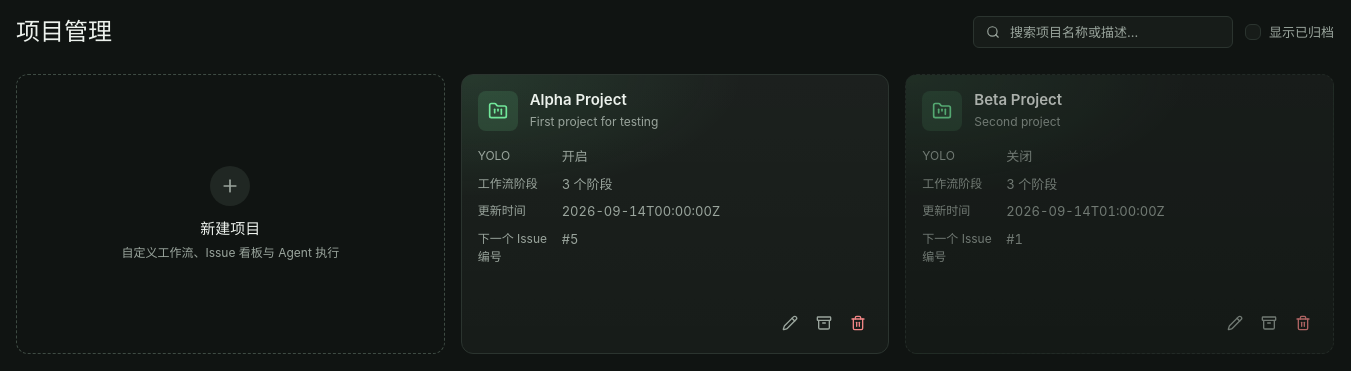
Test: ProjectsPage › renders project list and filters by search query
This screenshot has width=1351, height=371.
Check: the heading "Alpha Project" is shown, box top-left (530, 90), bottom-right (627, 109)
Check: the heading "Beta Project" is shown, box top-left (974, 90), bottom-right (1062, 109)
In the field labelled "搜索项目": (1114, 32) top-left (1008, 17), bottom-right (1220, 47), type "Alpha"
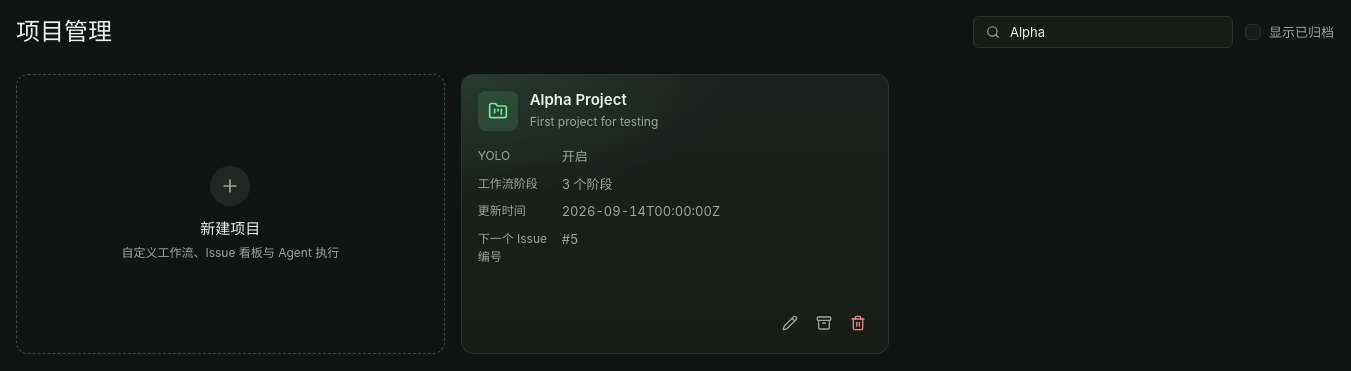
Check: the heading "Alpha Project" is shown, box top-left (530, 90), bottom-right (627, 109)
Check: the heading "Beta Project" is gone
